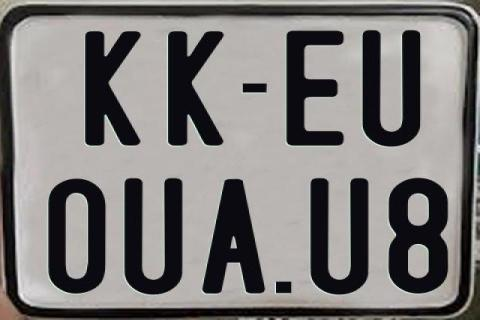0: (388, 176, 450, 293), (45, 177, 104, 293)
A: (200, 179, 264, 297)
E: (286, 28, 350, 143)
K: (83, 31, 142, 149), (168, 31, 224, 151)
U: (309, 178, 373, 296), (123, 176, 186, 294), (361, 29, 422, 147)
